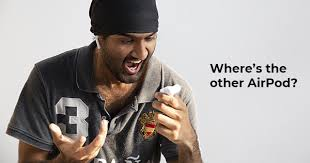earphone: (94, 34, 103, 50)
